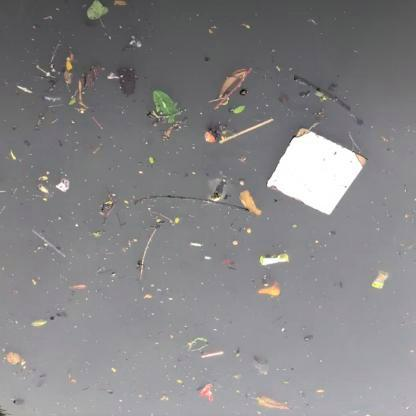Metal: (256, 251, 292, 269)
Trash: (266, 123, 370, 219), (370, 268, 392, 292)
